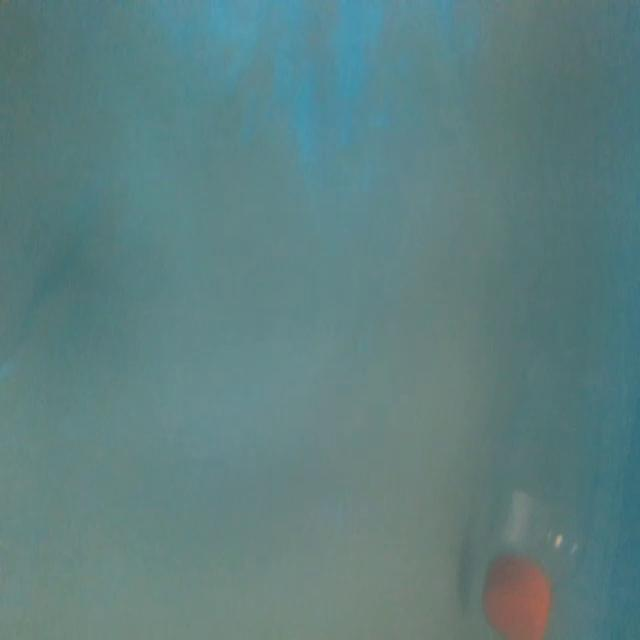plastic bottle: (480, 326, 592, 640)
